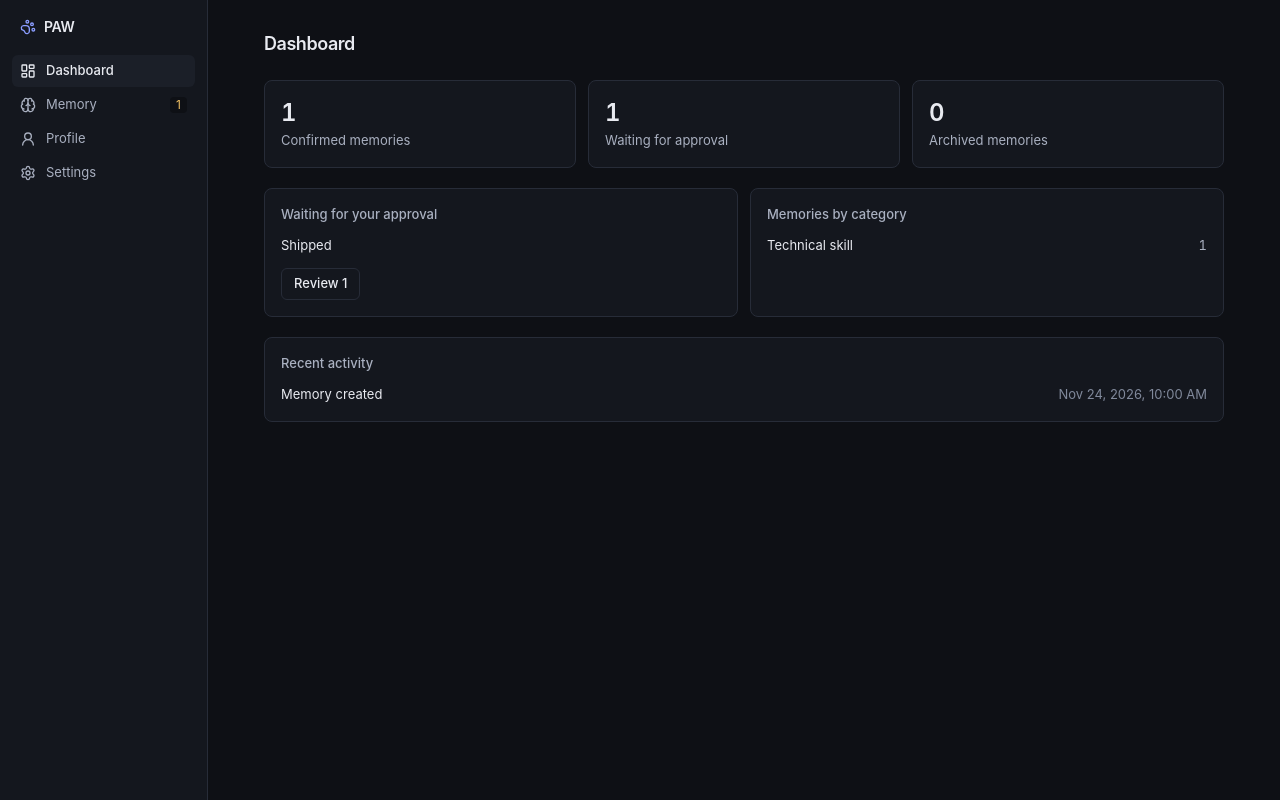
Test: memory › keeps the form and shows why when saving fails
The image size is (1280, 800).
Click the button "Memory 1": (104, 105) [12,89,195,121]
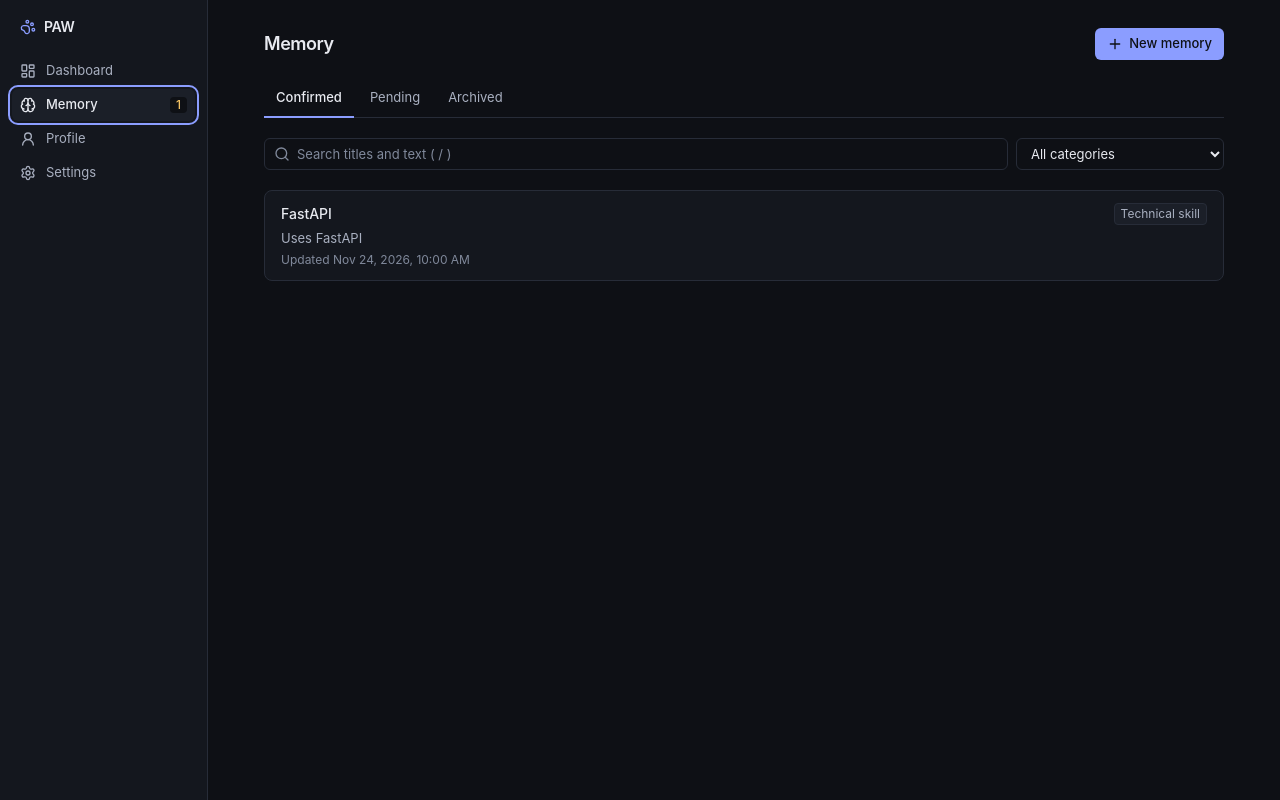
Click the button "New memory": (1160, 44) [1095,28,1224,60]
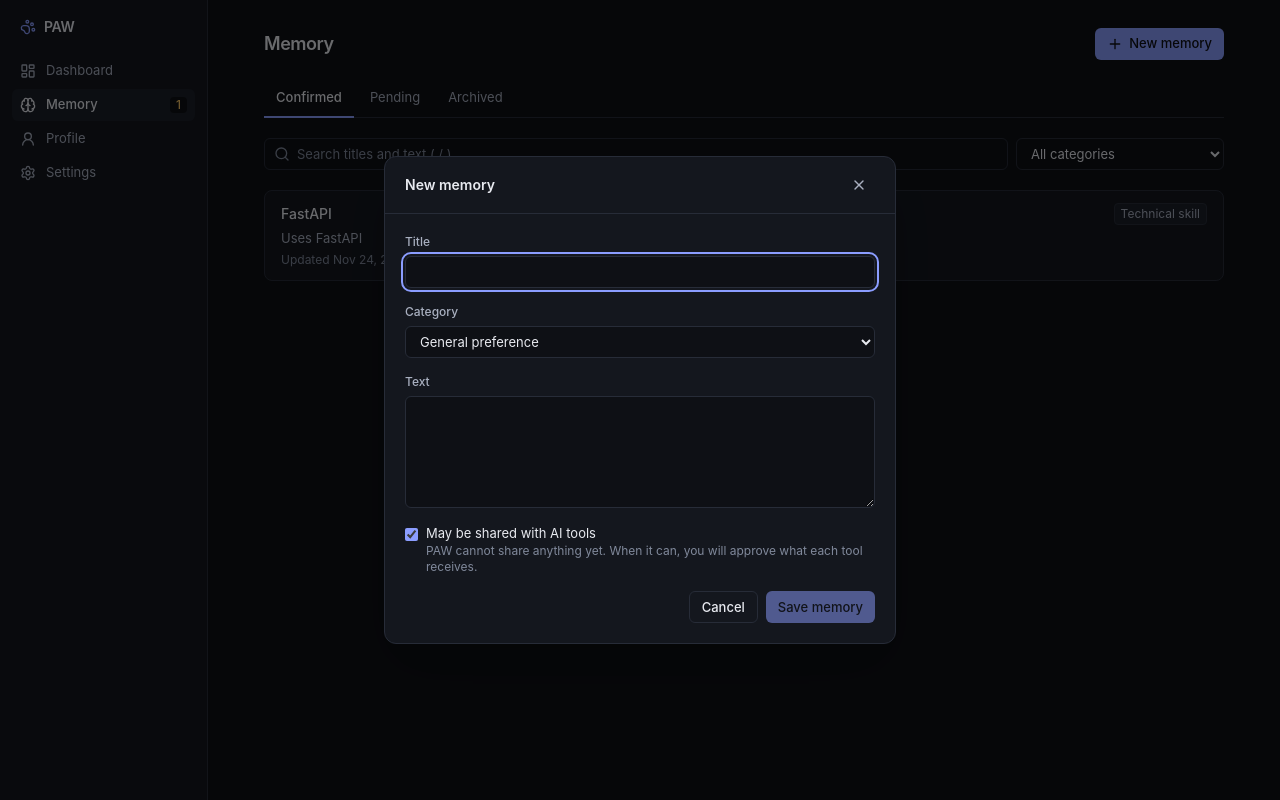
In the field labelled "Title": (640, 272) [405,256,875,288], type "T"
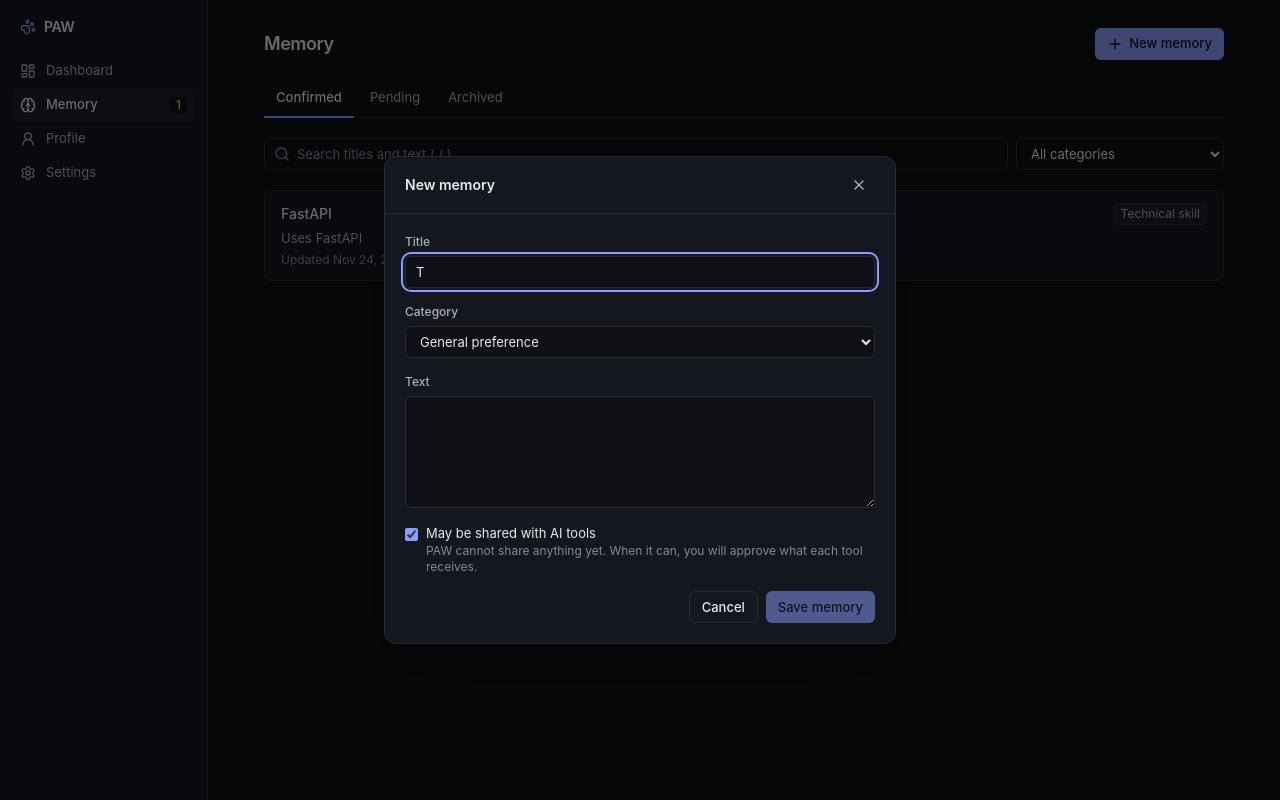
In the text box labelled "Text": (640, 452) [405,396,875,508], type "Body"
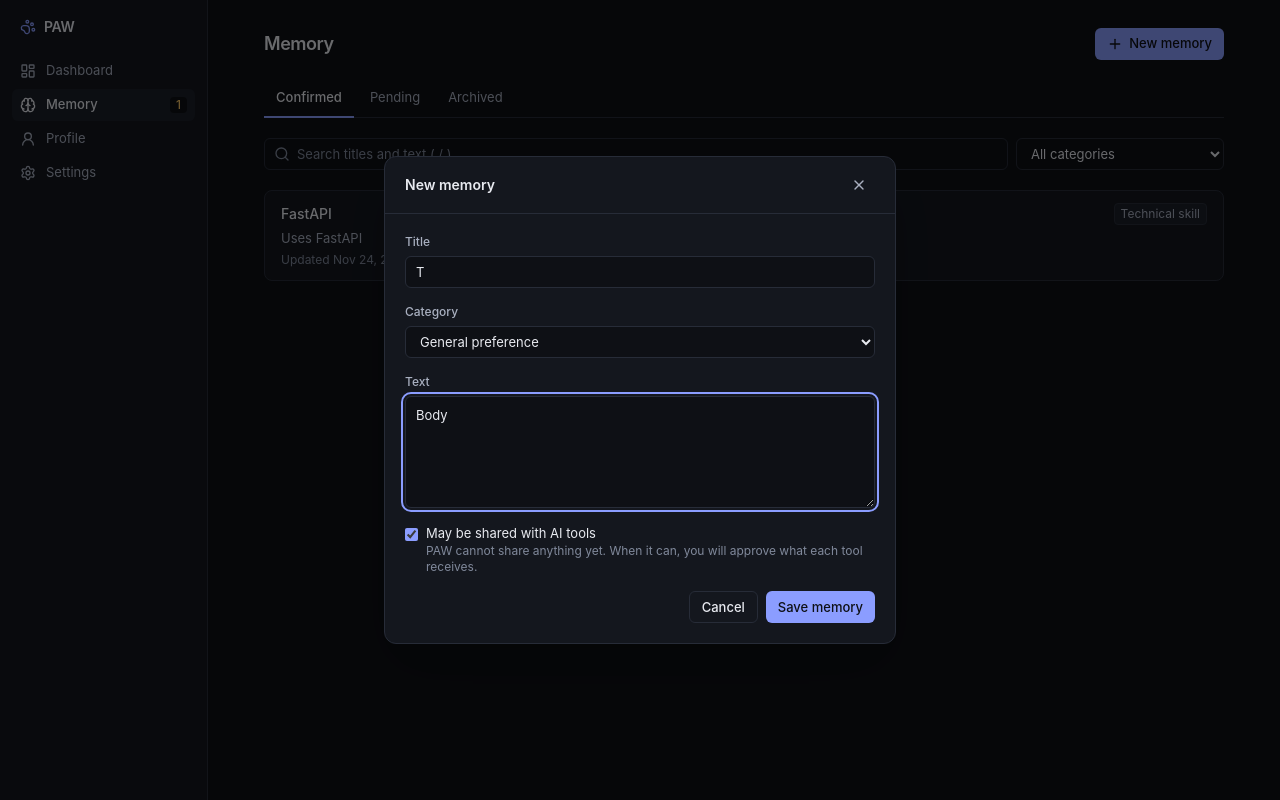
Click the button "Save memory": (820, 607) [766,591,875,623]
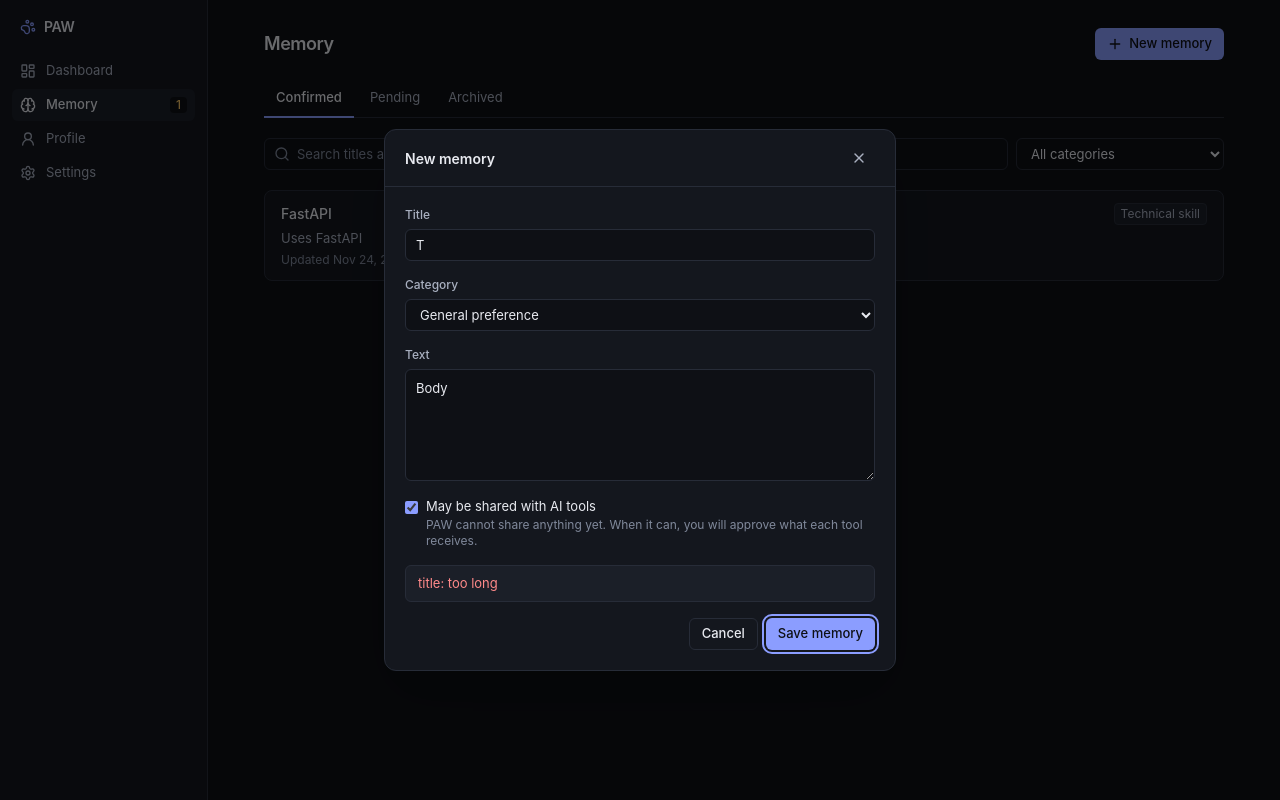
Expected: the message reads "title: too long", [418,574,498,590]
